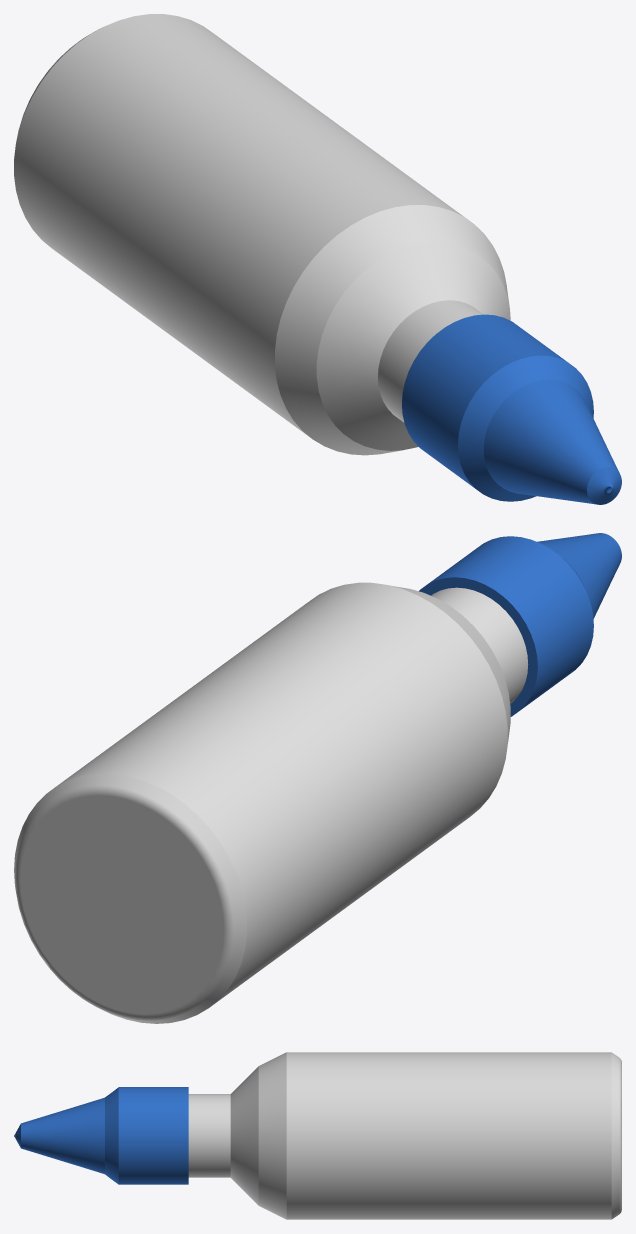
File: eye_dropper.glb
3 views of the same model, one above another, from view 1: azimuth 30°, elevation 25°; view 2: azimuth 150°, elevation 25°; view 3: azimuth 270°, elevation 25° (orthographic). The views are drawn at different scales.
Parts seen in each view (by area): view 1: bottle, cap; view 2: bottle, cap; view 3: bottle, cap.
Boxes of the visible parts, x1,y1,x2,y2 form: bottle: (14, 14, 510, 455); cap: (402, 314, 621, 504); bottle: (14, 582, 528, 1023); cap: (419, 533, 621, 716); bottle: (188, 1052, 621, 1219); cap: (14, 1087, 188, 1184).
Size of the model in its own units: 0.024 by 0.024 by 0.087.
